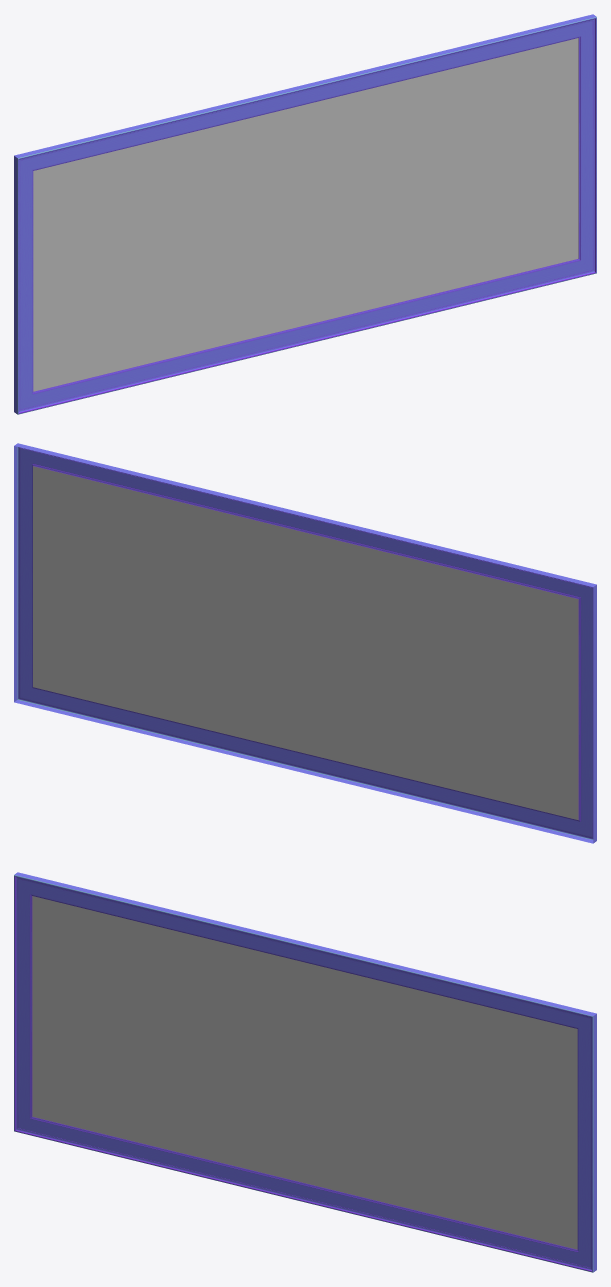
The picture shows the model from 3 angles, top to bottom: view 1: azimuth 30°, elevation 25°; view 2: azimuth 150°, elevation 25°; view 3: azimuth 330°, elevation 25°; orthographic projection.
Visible parts, largest first — view 1: _09_08, _09_08_frame; view 2: _09_08, _09_08_frame; view 3: _09_08, _09_08_frame.
Part boxes in pixels (left/top/right/bottom): _09_08: left=33, top=38, right=578, bottom=391; _09_08_frame: left=14, top=14, right=596, bottom=414; _09_08: left=33, top=466, right=578, bottom=820; _09_08_frame: left=14, top=443, right=596, bottom=843; _09_08: left=32, top=896, right=577, bottom=1249; _09_08_frame: left=14, top=872, right=596, bottom=1272.
Bounding box in the file's own units: 754 × 319 × 8.7.
